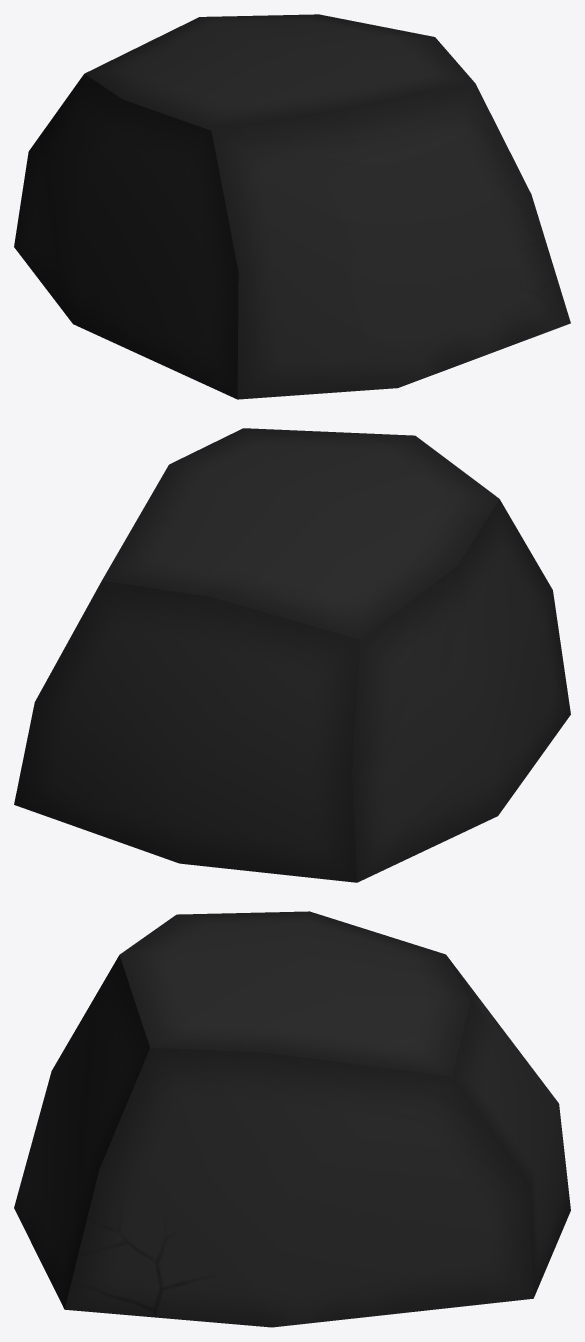
The model's file is Rock4.fbx.
3 renders of one model, top to bottom at view 1: azimuth 30°, elevation 25°; view 2: azimuth 150°, elevation 25°; view 3: azimuth 270°, elevation 25°, orthographic. The views are drawn at different scales.
Parts seen in each view (by area): view 1: Rock 4; view 2: Rock 4; view 3: Rock 4.
Part boxes in pixels (x1=…): Rock 4: x1=14, y1=14, x2=570, y2=399; Rock 4: x1=14, y1=428, x2=570, y2=882; Rock 4: x1=14, y1=911, x2=570, y2=1327.
Size of the model in its own units: 13.93 by 15.89 by 8.21.
